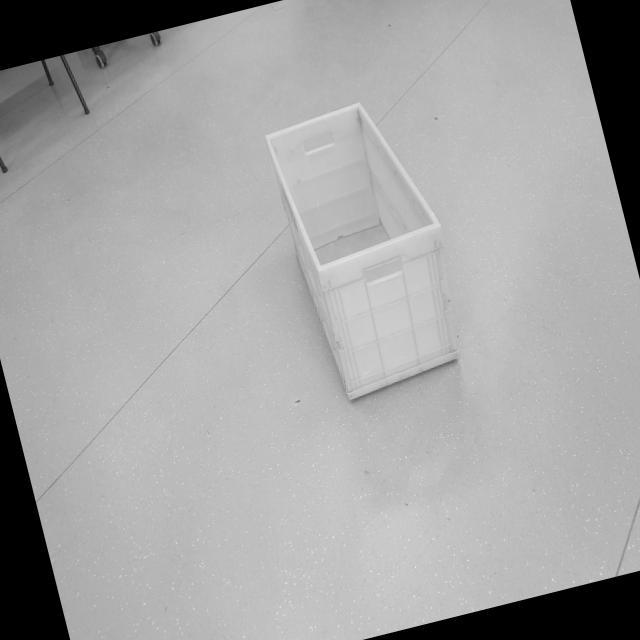box: (257, 75, 483, 414)
